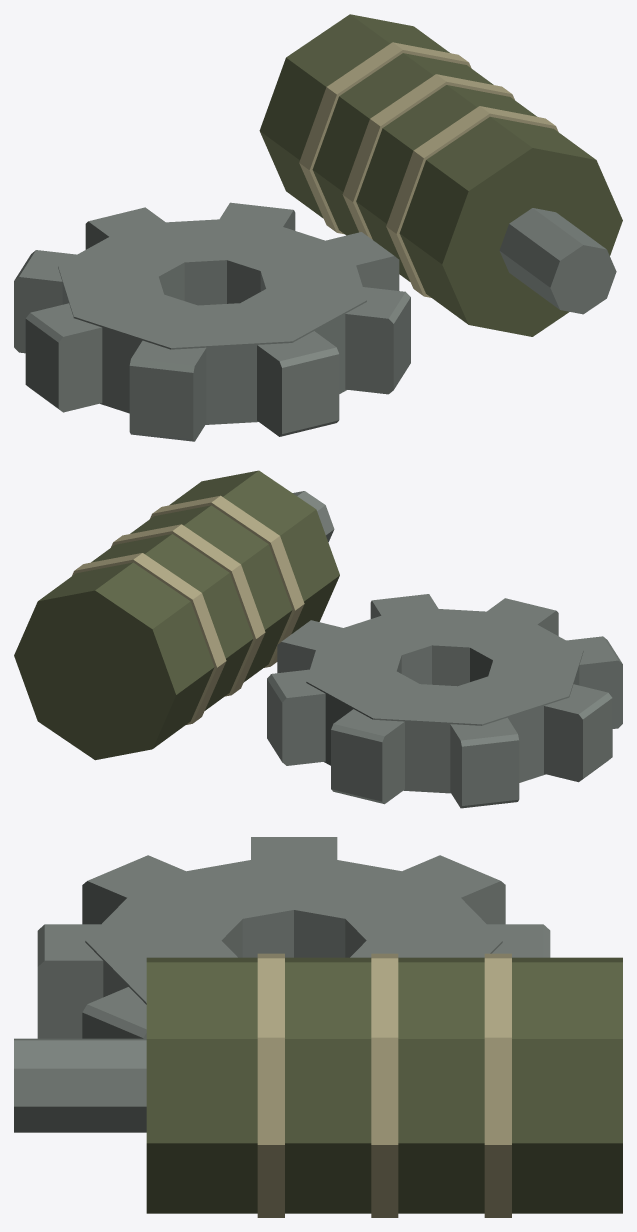
File: MechanicalComponents.gltf
3 views of the same model, one above another, from view 1: azimuth 30°, elevation 25°; view 2: azimuth 150°, elevation 25°; view 3: azimuth 270°, elevation 25° (orthographic). The views are drawn at different scales.
Visible parts, largest first — view 1: MechanicalComponents; view 2: MechanicalComponents; view 3: MechanicalComponents.
Part boxes in pixels (x1=…): MechanicalComponents: x1=14, y1=14, x2=622, y2=441; MechanicalComponents: x1=14, y1=470, x2=622, y2=808; MechanicalComponents: x1=14, y1=837, x2=622, y2=1217.
Size of the model in its own units: 0.35 by 0.124 by 0.2685.
